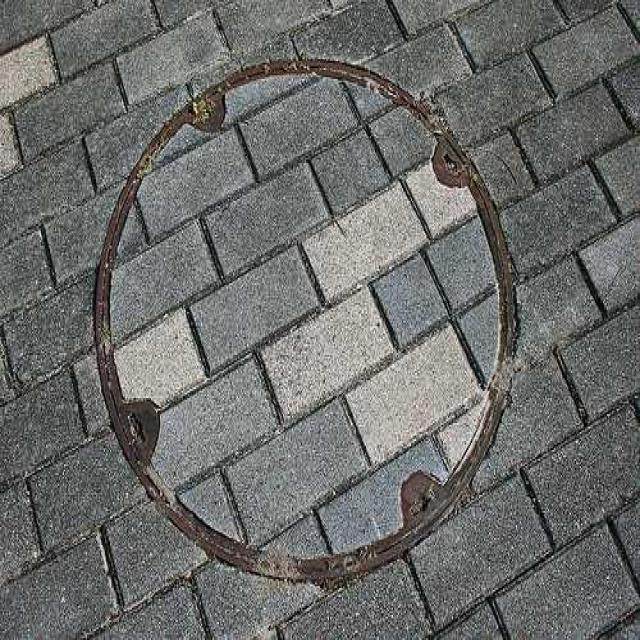manhole: (93, 59, 520, 636)
